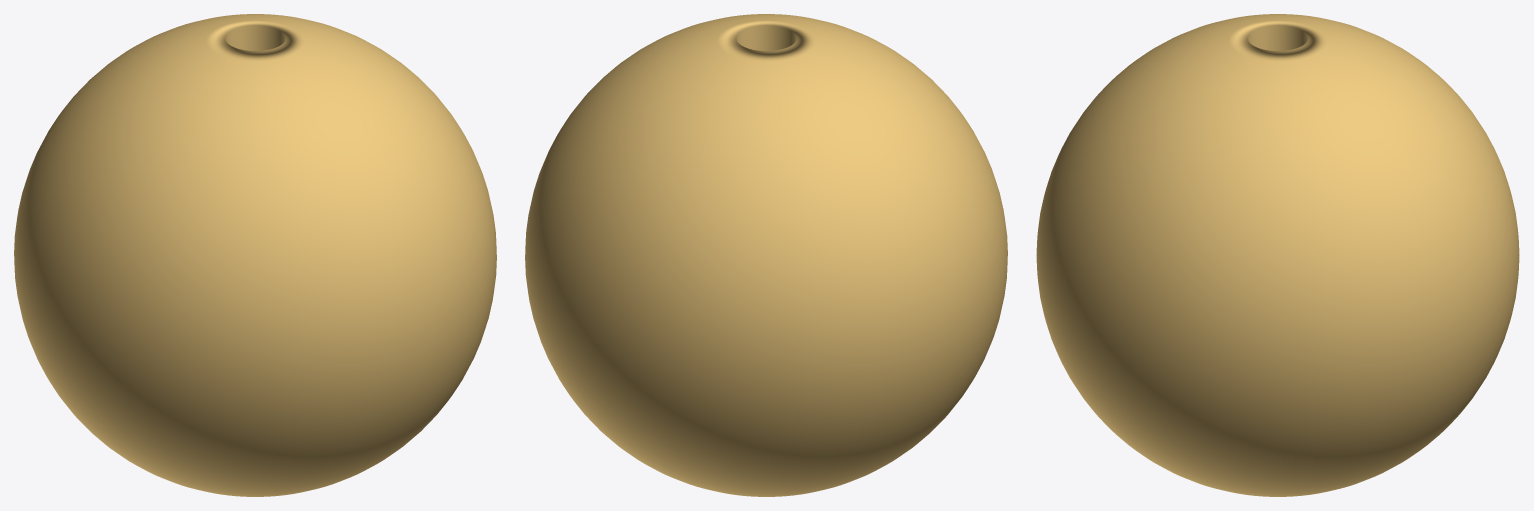
File: spacer-01-gold-8mm.glb
3 views of the same model, side by side, from view 1: azimuth 30°, elevation 25°; view 2: azimuth 150°, elevation 25°; view 3: azimuth 270°, elevation 25° (orthographic).
Parts seen in each view (by area): view 1: Spacer with through bore; view 2: Spacer with through bore; view 3: Spacer with through bore.
Part boxes in pixels (bbox=[...]): Spacer with through bore: bbox=[14, 14, 496, 496]; Spacer with through bore: bbox=[525, 14, 1007, 496]; Spacer with through bore: bbox=[1036, 14, 1519, 496].
Size of the model in its own units: 0.008 by 0.00794 by 0.008.
